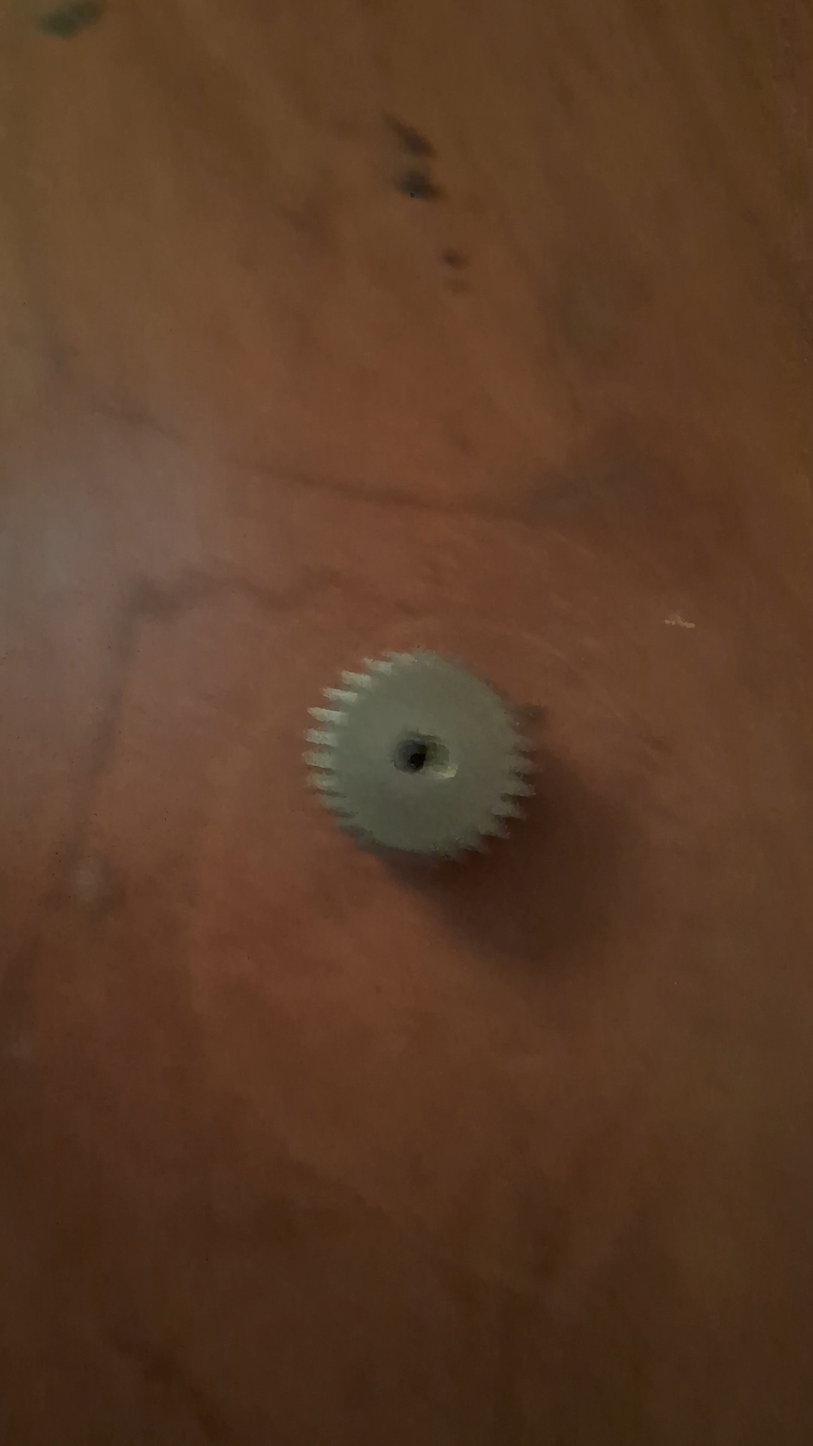spur gear: (306, 651, 533, 856)
